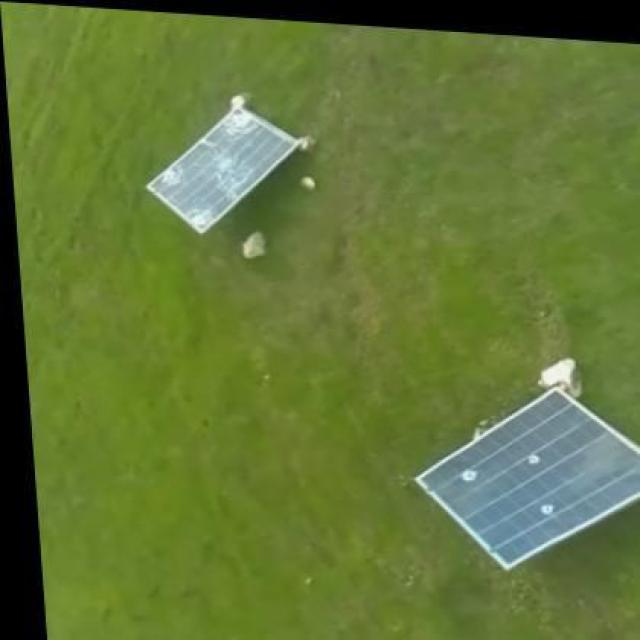cracked: (140, 107, 306, 240)
soiled: (412, 386, 638, 578)
